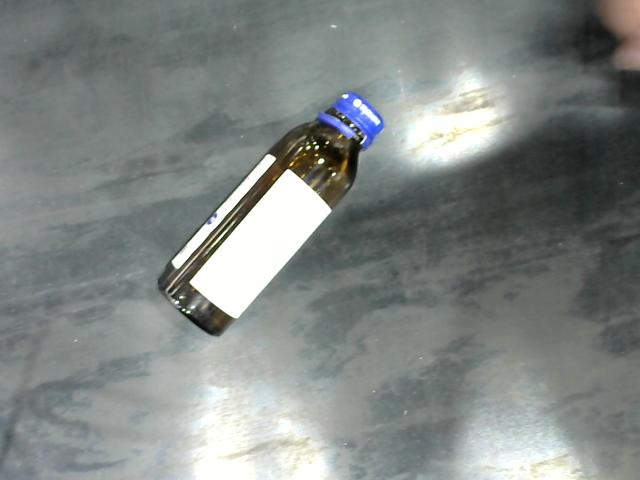glass: (157, 85, 396, 340)
